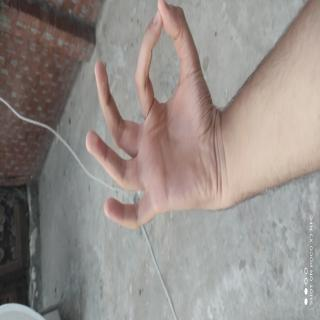Space: (37, 183, 144, 320)
